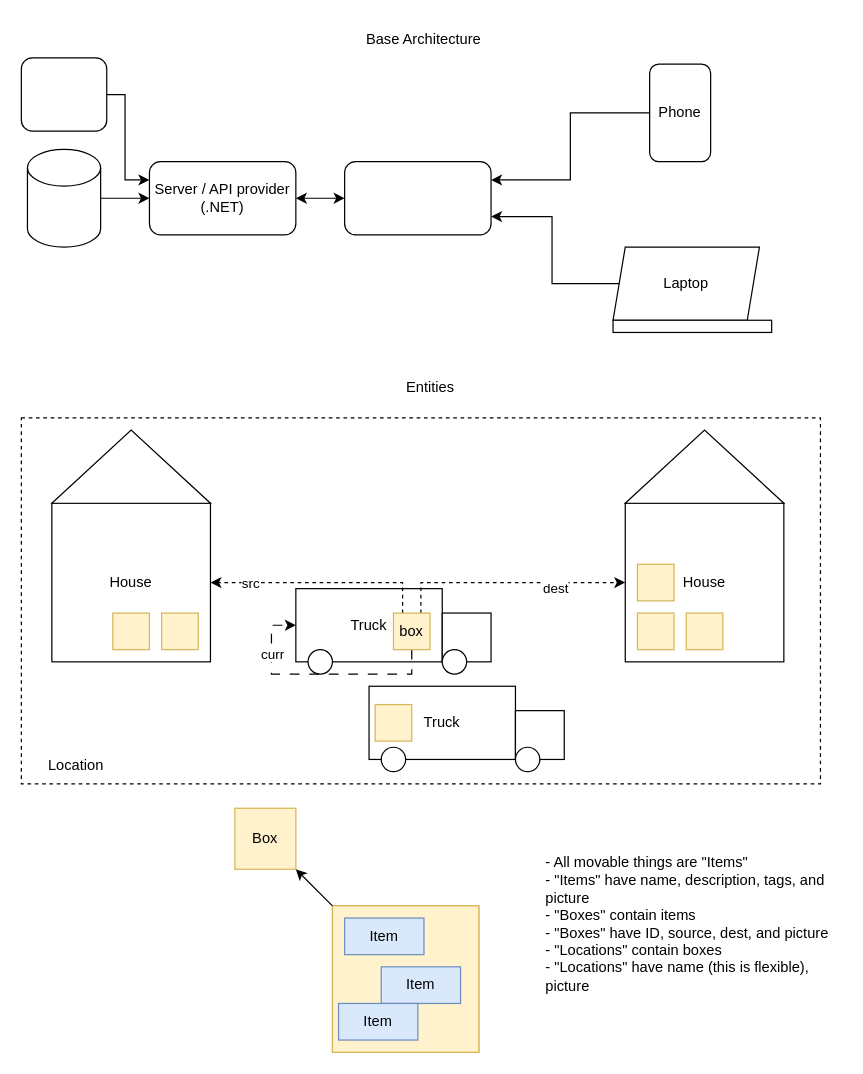
Some shapes in this 863 by 1074 pixel diagram are drawn without their labels. The centre of each missing label's shape, as x and y in pixels:
Database (SQLite): (63,197)
Picture file store: (63,94)
SPA frontend (React?): (417,197)
